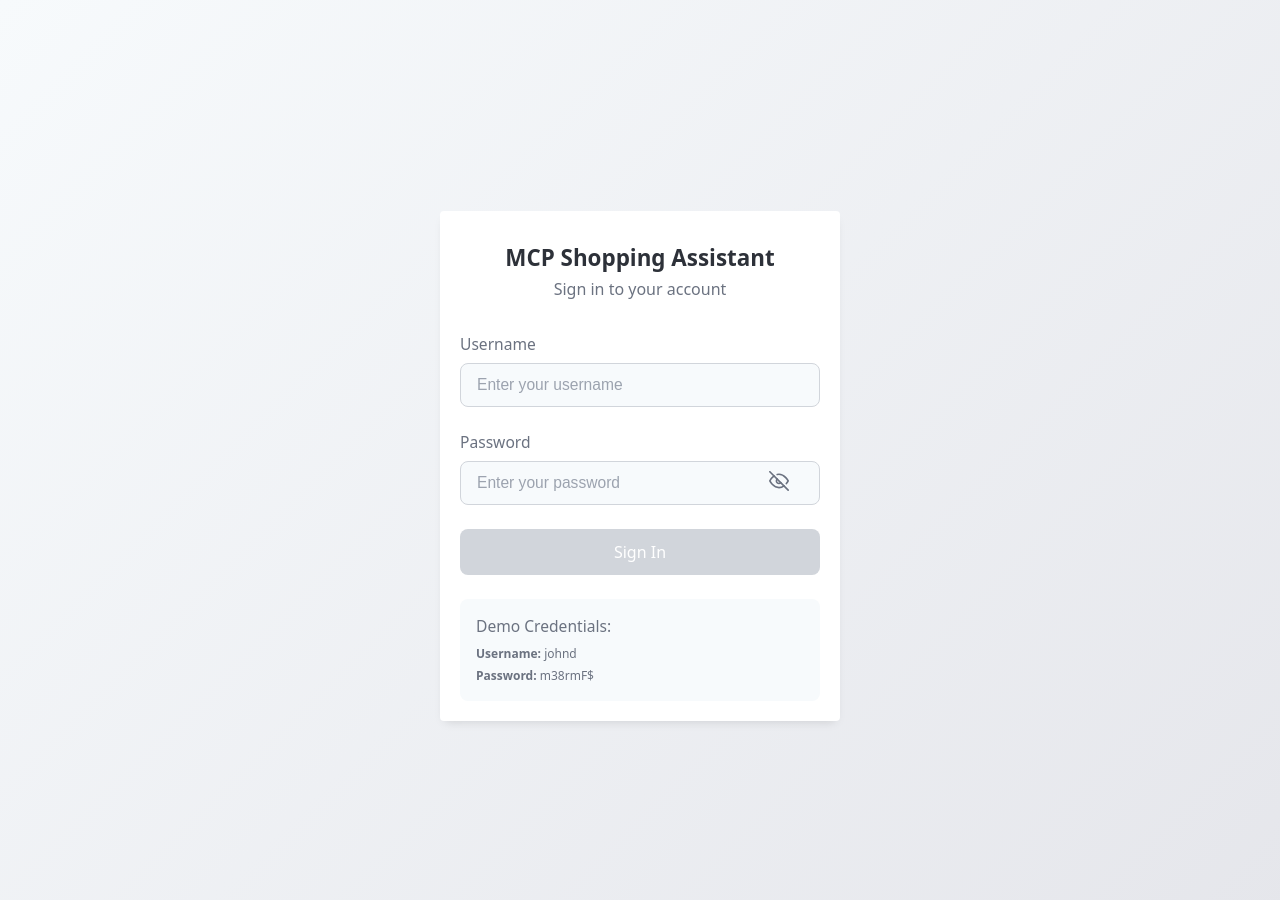
Test: LoginPage Component › enables submit button when form is complete
Type "testuser" into the field labelled "Username" at (640, 385), box [460, 363, 820, 407]
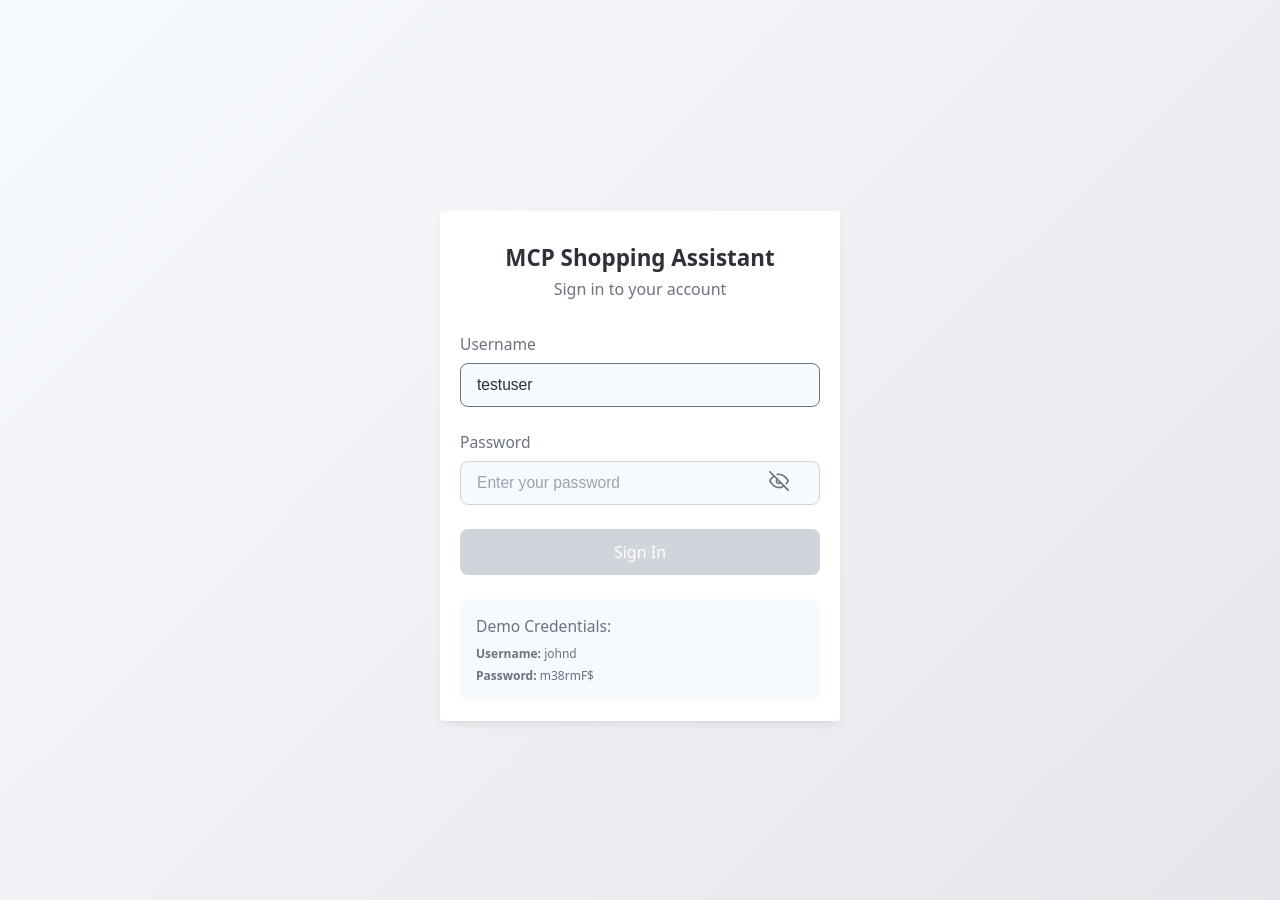
Type "testpass" into the password field labelled "Password" at (640, 483), box [460, 461, 820, 505]
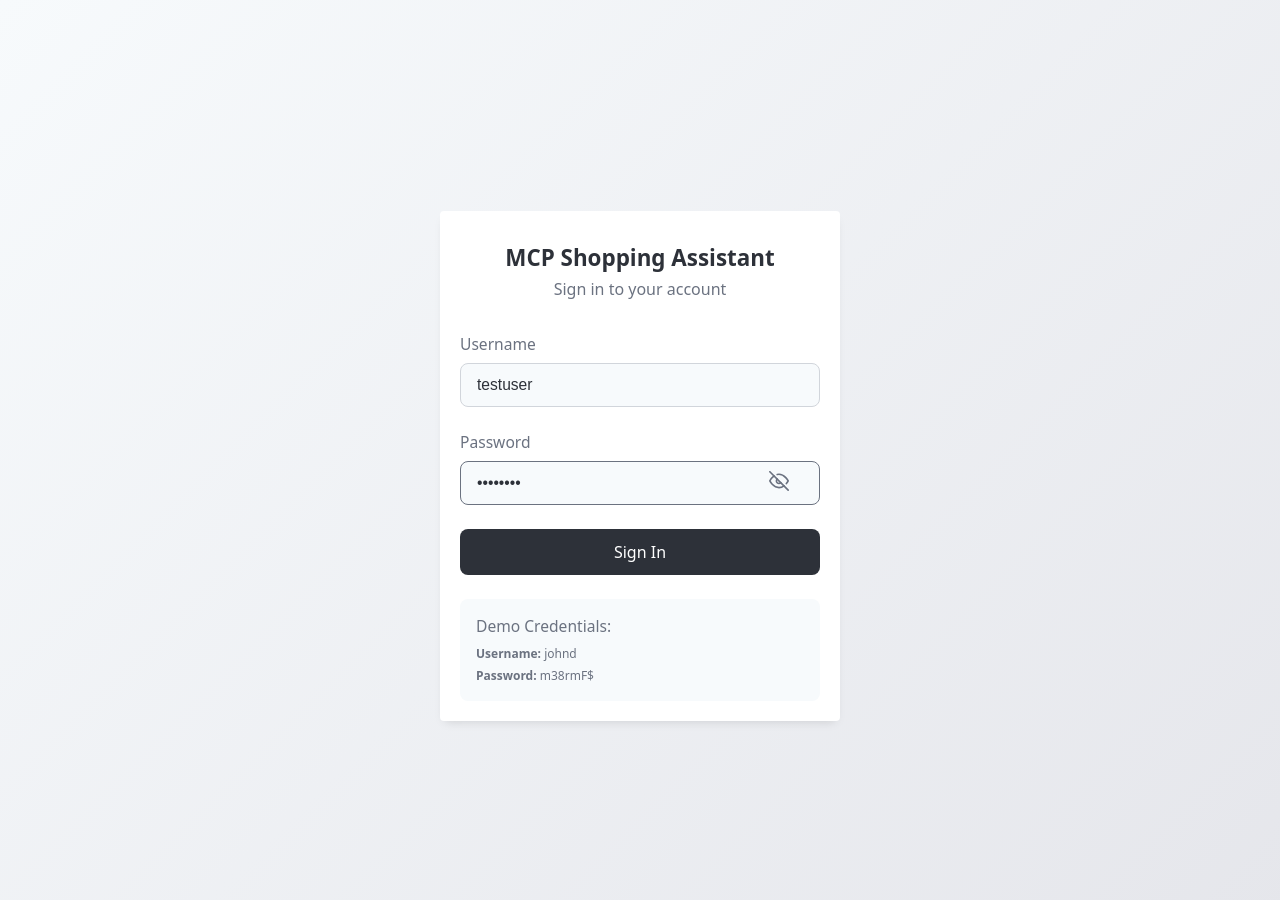
Expected: the button "Sign In" is enabled, [460, 529, 820, 575]
